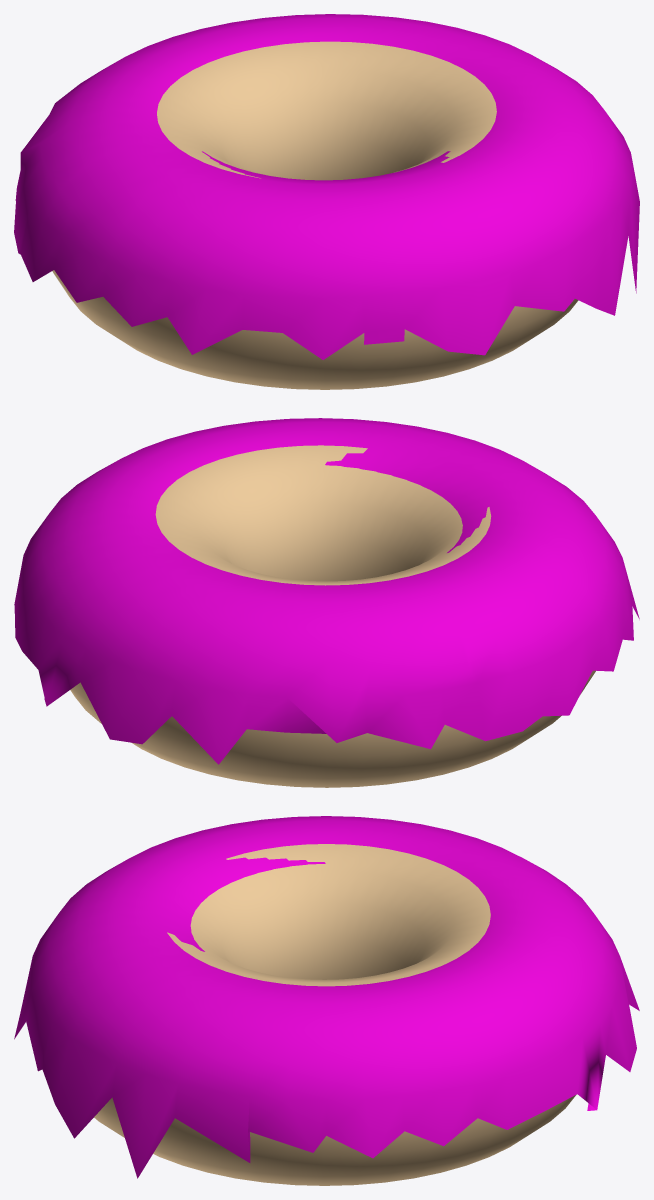
The model's file is .blend file.glb.
3 renders of one model, top to bottom at view 1: azimuth 30°, elevation 25°; view 2: azimuth 150°, elevation 25°; view 3: azimuth 270°, elevation 25°, orthographic.
Parts seen in each view (by area): view 1: donught.002, donut; view 2: donught.002, donut; view 3: donught.002, donut.
Boxes of the visible parts, x1,y1,x2,y2 form: donught.002: [14, 14, 639, 359]; donut: [52, 41, 578, 389]; donught.002: [14, 418, 639, 764]; donut: [70, 445, 595, 787]; donught.002: [14, 816, 639, 1178]; donut: [94, 844, 576, 1185].
Size of the model in its own units: 0.344 by 0.114 by 0.345.
